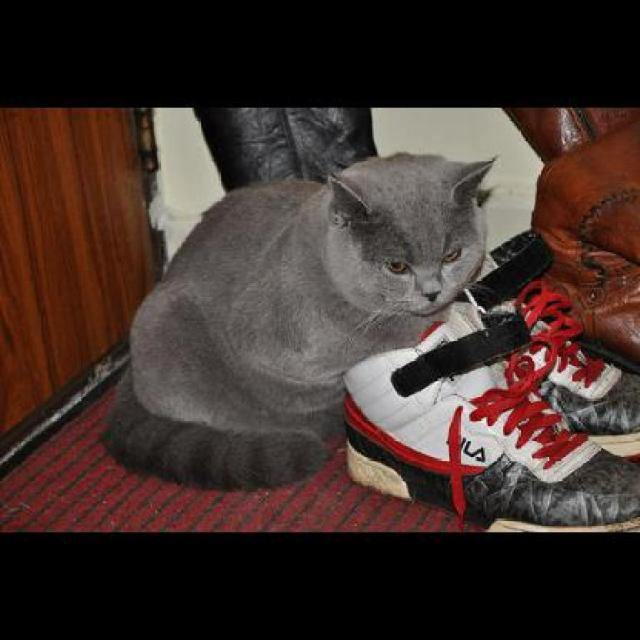unauthorized: (98, 150, 497, 492)
